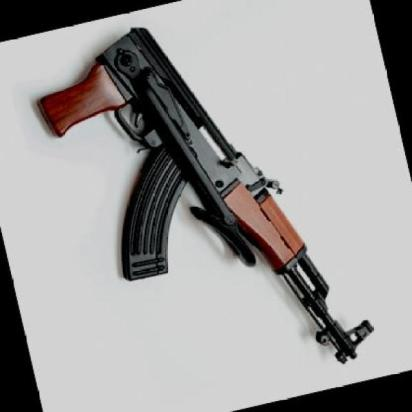Gun: (9, 0, 385, 412)
